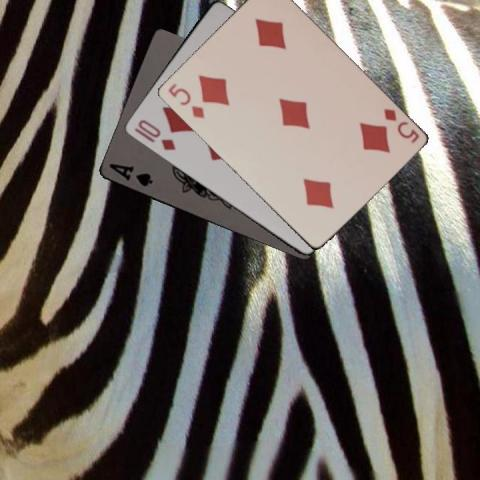10d: (134, 116, 176, 152)
5d: (165, 80, 206, 121), (380, 105, 421, 145)
As: (105, 160, 154, 189)
